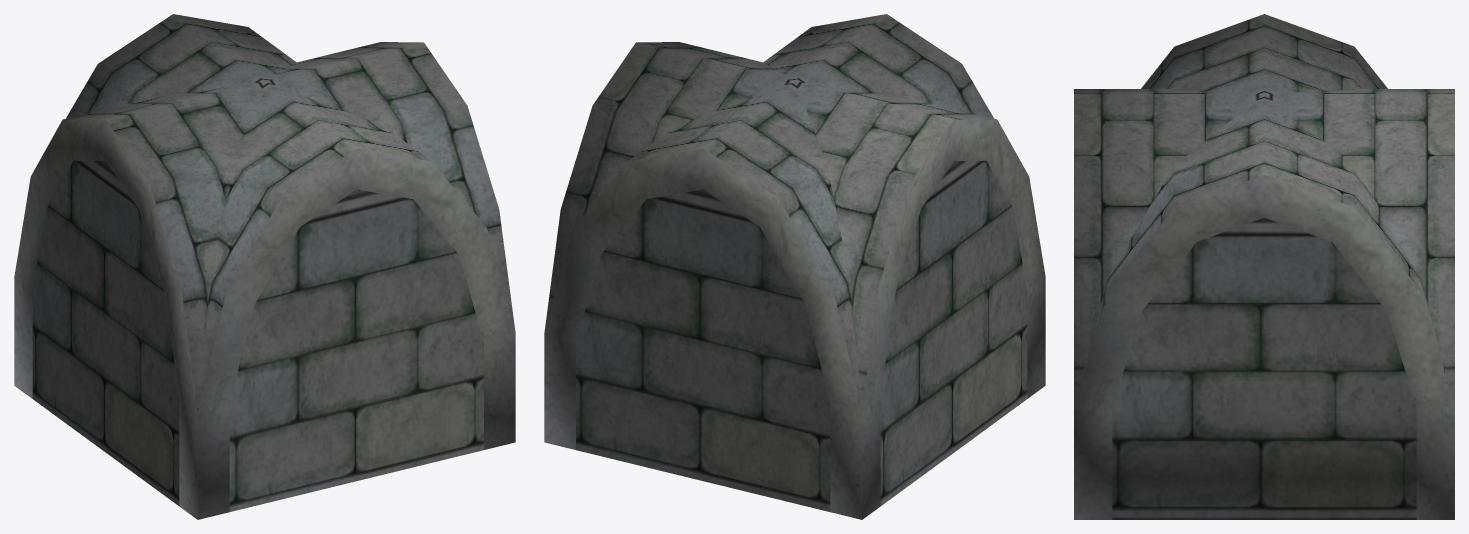
Rendered from vault_ceiling_small_06.glb.
The picture shows the model from 3 angles, left to right: view 1: azimuth 30°, elevation 25°; view 2: azimuth 150°, elevation 25°; view 3: azimuth 270°, elevation 25°; orthographic projection. The views are drawn at different scales.
Visible parts, largest first — view 1: vault_ceiling_small_06; view 2: vault_ceiling_small_06; view 3: vault_ceiling_small_06.
Boxes of the visible parts, <box> form: vault_ceiling_small_06: <box>14,14,515,519</box>; vault_ceiling_small_06: <box>544,14,1045,519</box>; vault_ceiling_small_06: <box>1074,14,1454,519</box>.
Size of the model in its own units: 2 by 2 by 2.
Materials: 1 (1 with a texture image).
